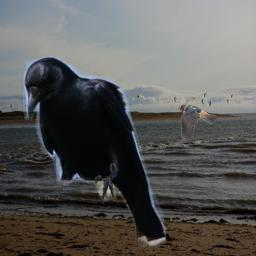Crow: (22, 56, 166, 250)
Swallow: (178, 103, 218, 141)
